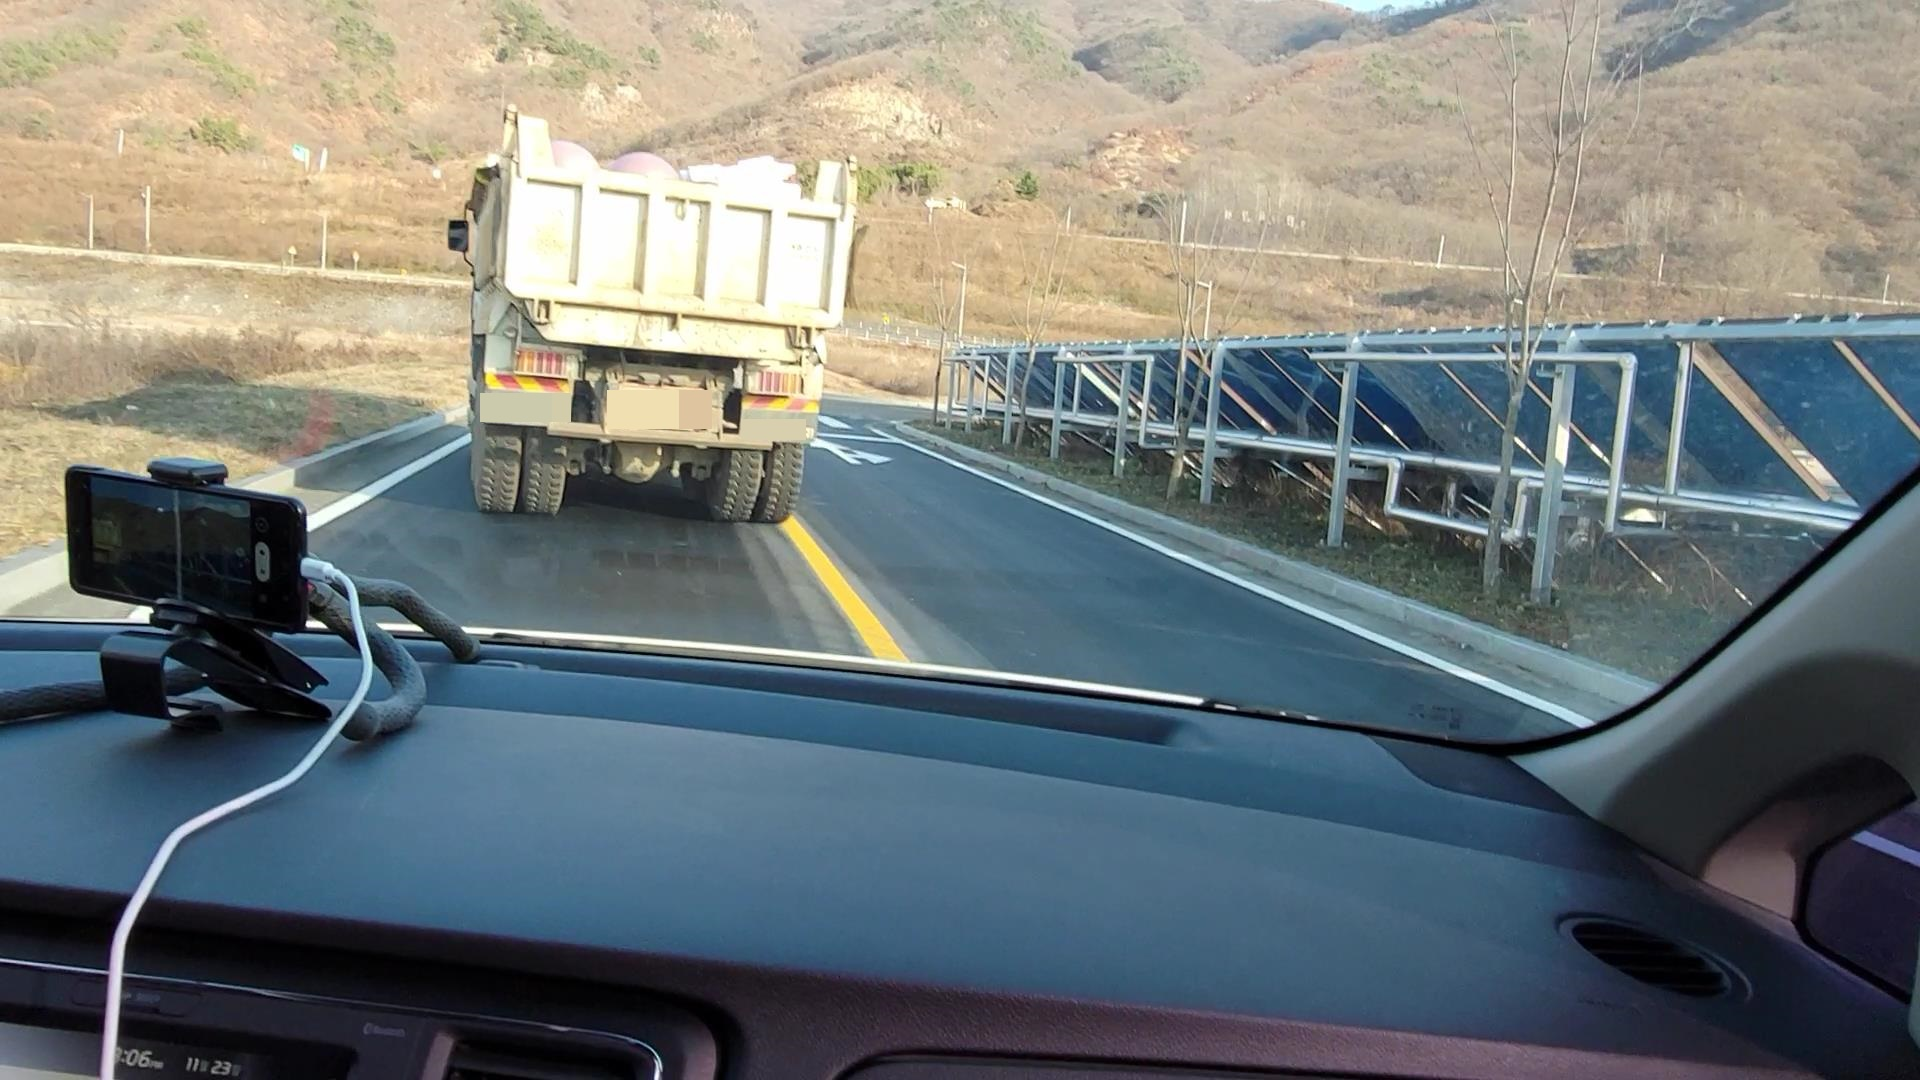불법차량: (448, 104, 868, 524)
